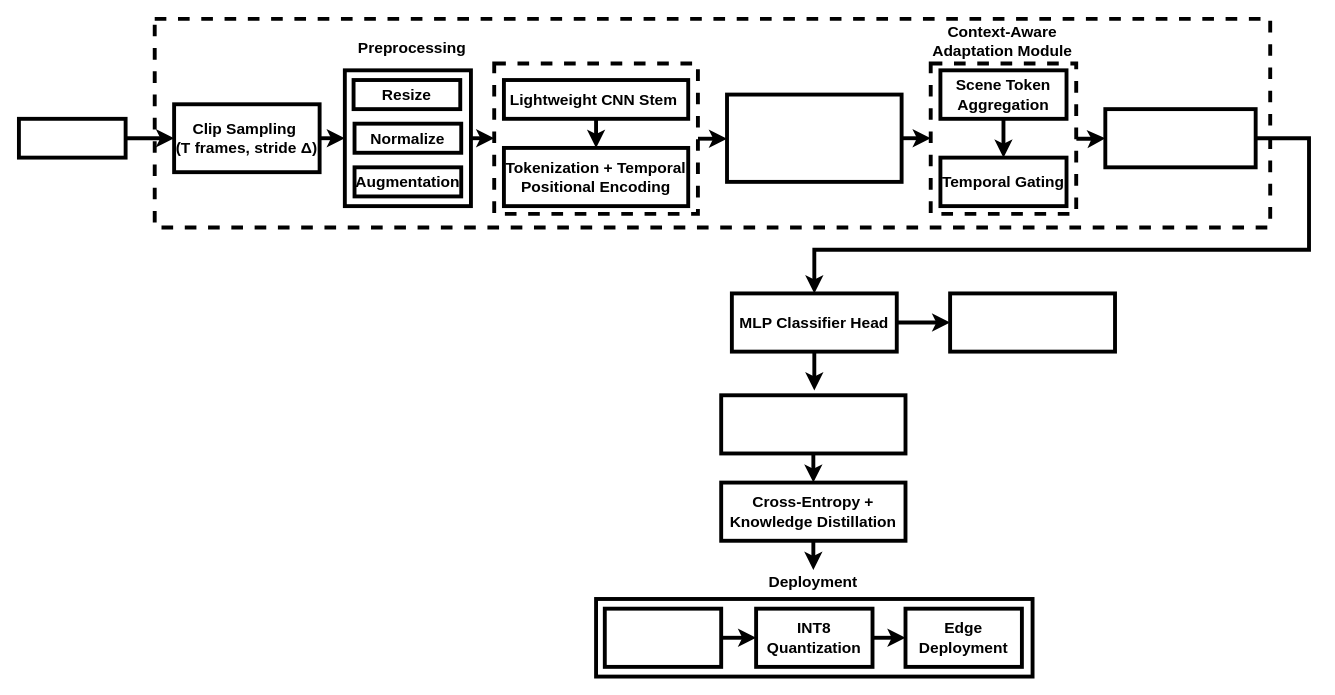
The diagram is 1335 pixels wide and 695 high, and some of its shapes have lost their labels. Each missing label, with the centre of its shape:
Input Video Stream: pixel 71 137
Late Fusion (Temporal + Spatial Features): pixel 1180 138
Softmax Output (Threat Probabilities): pixel 1032 322
Trained FP32 Model: pixel 662 637
Training Phase (Backpropagation): pixel 813 424
Transformer Encoder (Multi-Head Self-Attention + FFN): pixel 814 137
